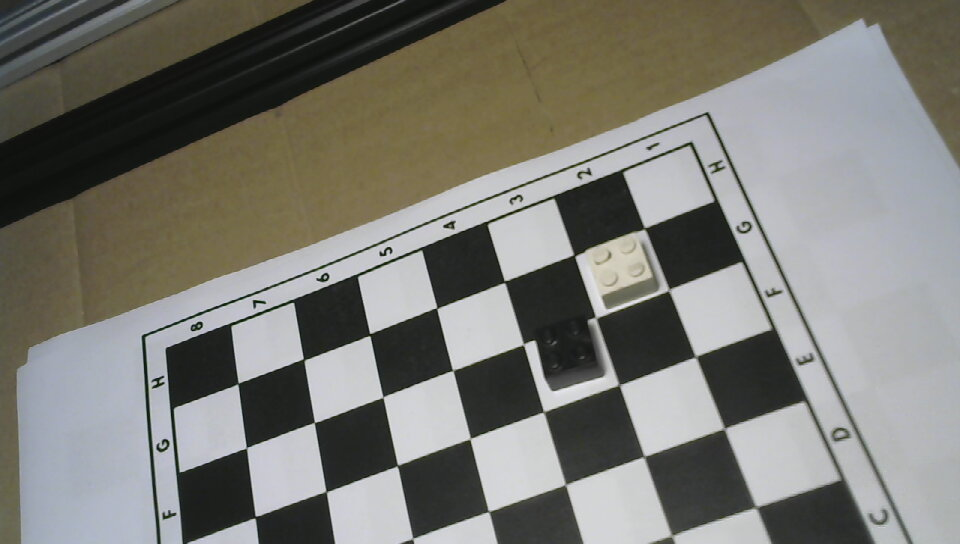wp: (578, 227, 664, 314)
